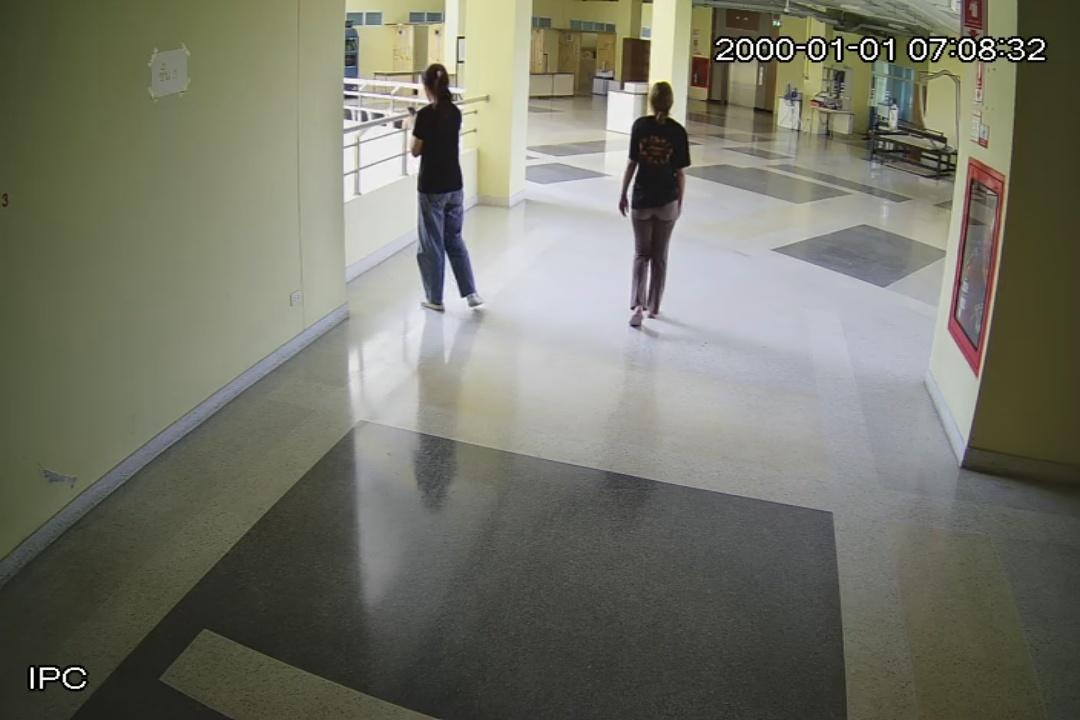normal: (402, 58, 492, 318), (612, 74, 694, 334)
